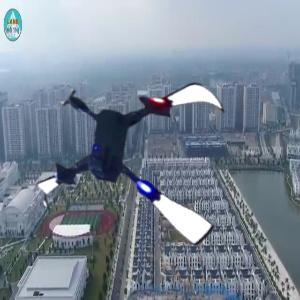drone: (37, 49, 248, 260)
